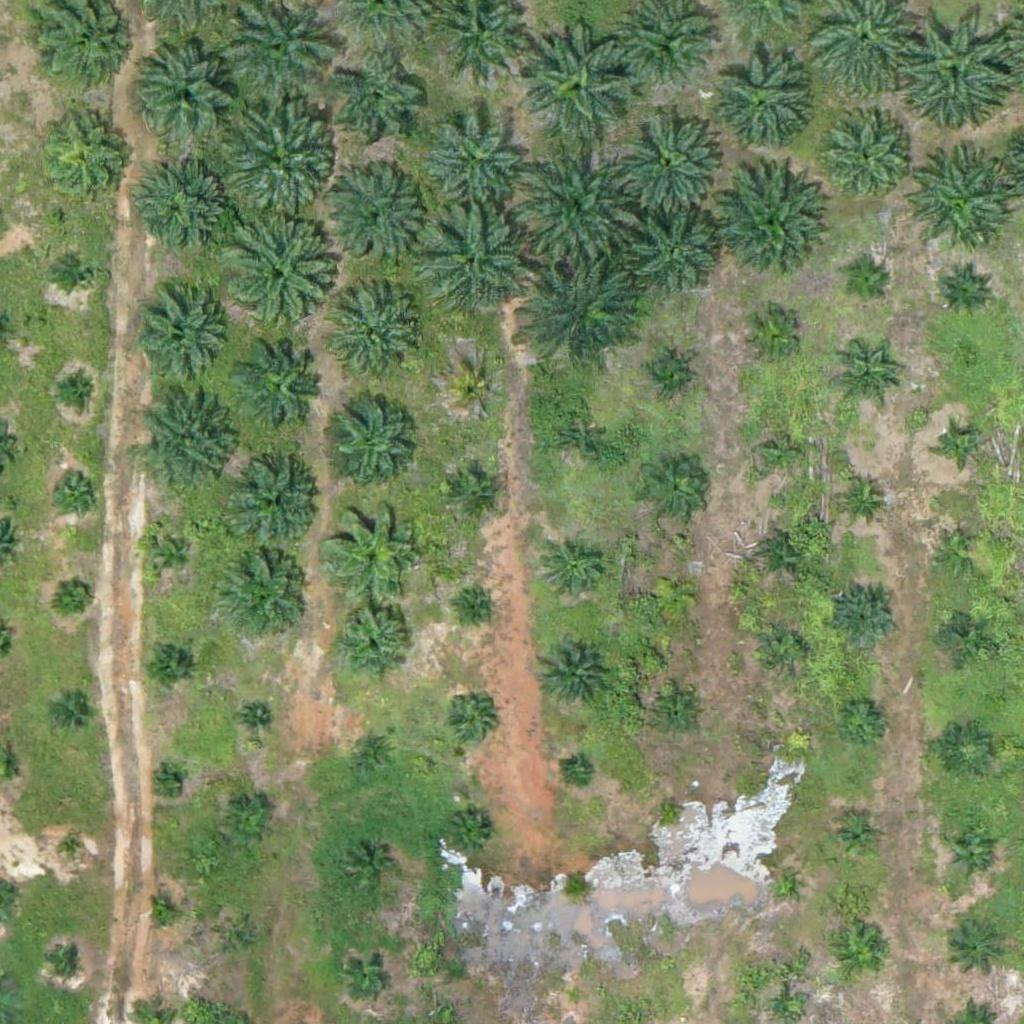Kelapa_Sawit: (895, 8, 1020, 134), (513, 139, 638, 265), (521, 250, 646, 376), (214, 97, 339, 222), (214, 216, 339, 341), (712, 170, 825, 284), (421, 208, 534, 321), (613, 100, 725, 214), (523, 20, 635, 134), (901, 152, 1013, 265), (816, 107, 916, 208), (425, 109, 525, 210), (329, 55, 429, 156), (324, 164, 424, 265), (138, 42, 238, 143), (135, 161, 235, 262), (132, 289, 232, 390), (37, 107, 137, 208), (322, 499, 422, 600), (140, 391, 240, 492), (709, 52, 809, 152), (335, 293, 423, 382), (329, 600, 417, 688), (631, 211, 719, 299), (220, 549, 308, 637), (232, 457, 320, 545), (239, 344, 327, 432), (329, 389, 416, 477), (535, 636, 610, 712), (948, 917, 1011, 980), (833, 350, 896, 413), (739, 304, 802, 367), (835, 586, 898, 649), (750, 421, 813, 484), (643, 459, 705, 522), (543, 538, 605, 601), (547, 408, 609, 471), (942, 725, 992, 776), (940, 607, 990, 658), (760, 529, 810, 580), (836, 472, 886, 523), (761, 623, 811, 674), (640, 350, 690, 401), (649, 569, 699, 620), (837, 696, 887, 747), (947, 828, 997, 879), (450, 467, 500, 517), (940, 265, 990, 315), (836, 930, 886, 980), (933, 527, 983, 577), (841, 260, 891, 310), (655, 690, 705, 740), (832, 813, 882, 863), (444, 696, 494, 746), (447, 810, 497, 860), (344, 949, 394, 999), (344, 842, 394, 892), (351, 728, 401, 778), (224, 798, 274, 848), (143, 638, 193, 688), (451, 367, 501, 417), (146, 529, 196, 579), (51, 465, 101, 515), (942, 426, 980, 464), (62, 254, 100, 292), (219, 920, 257, 957), (56, 371, 93, 409), (58, 575, 95, 613), (54, 699, 91, 736), (564, 759, 589, 785), (769, 870, 794, 895), (774, 998, 799, 1023), (657, 797, 682, 822), (155, 769, 180, 794), (148, 899, 173, 924), (60, 838, 85, 863), (54, 950, 79, 975), (465, 595, 490, 620), (563, 986, 588, 1011), (243, 705, 267, 730)
